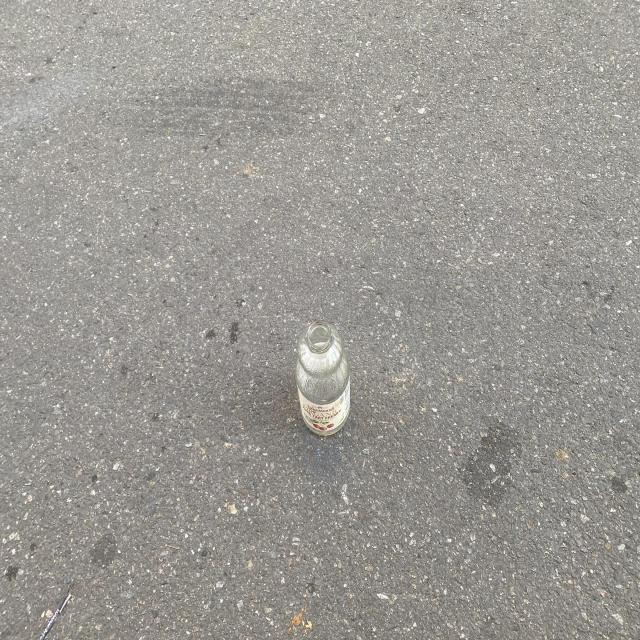glass: (296, 321, 350, 436)
